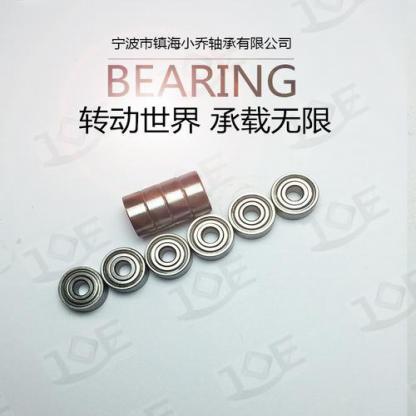FOD: (98, 244, 150, 294), (269, 171, 320, 220), (143, 229, 191, 281), (228, 190, 276, 240), (56, 266, 108, 312), (186, 212, 235, 259), (120, 189, 157, 239), (178, 169, 213, 219)
